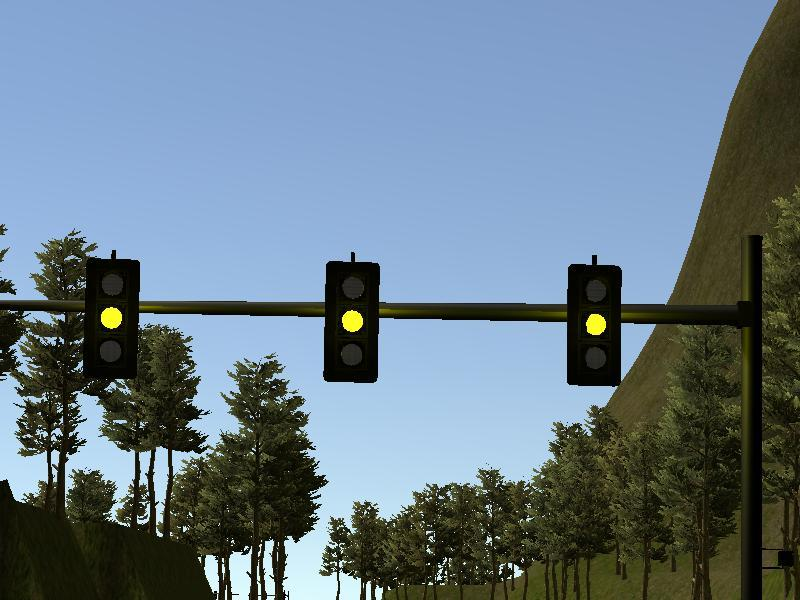Yellow: (326, 261, 381, 382), (84, 257, 137, 379), (568, 265, 620, 386)
